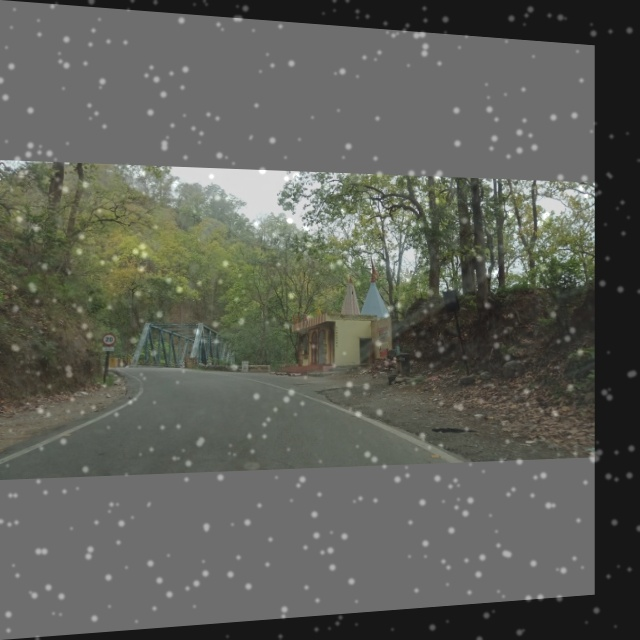Speed_Limit_20: (101, 329, 119, 348)
